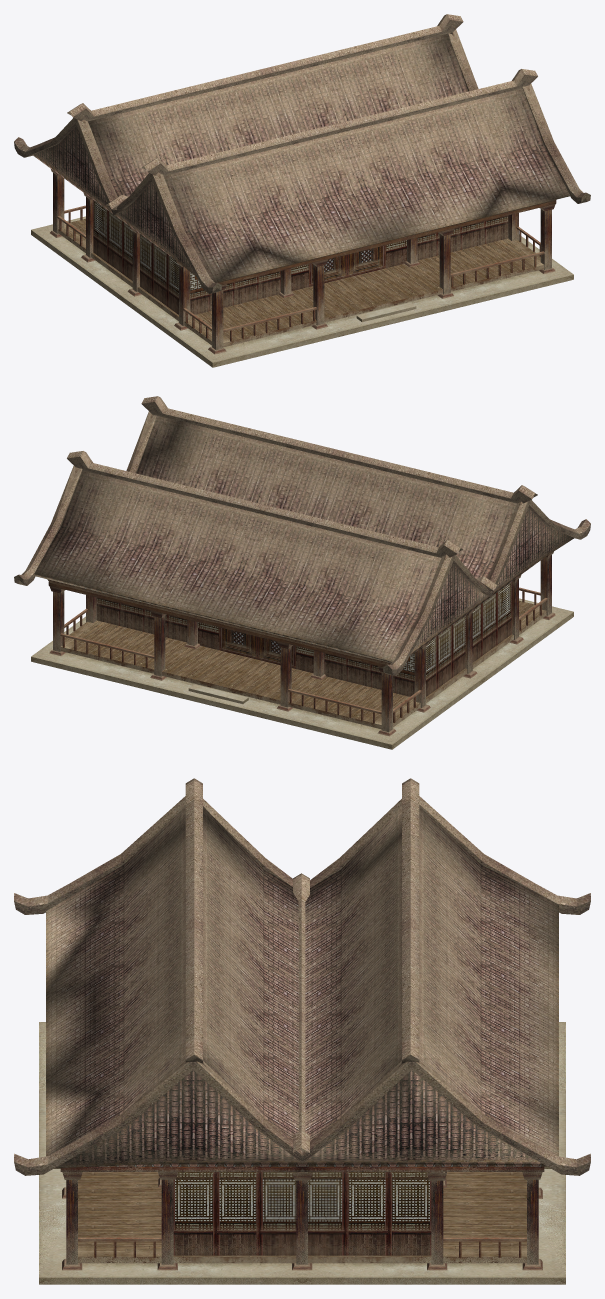
File: desert-033-guesthouse-01.fbx
The picture shows the model from 3 angles, top to bottom: view 1: azimuth 30°, elevation 25°; view 2: azimuth 150°, elevation 25°; view 3: azimuth 270°, elevation 25°; orthographic projection. The views are drawn at different scales.
Parts seen in each view (by area): view 1: desert-033-guesthouse-01, desert-033-guesthouse-02; view 2: desert-033-guesthouse-01, desert-033-guesthouse-02; view 3: desert-033-guesthouse-01, desert-033-guesthouse-02.
Part boxes in pixels (x1=…): desert-033-guesthouse-01: x1=14, y1=14, x2=590, y2=354; desert-033-guesthouse-02: x1=31, y1=173, x2=573, y2=367; desert-033-guesthouse-01: x1=14, y1=396, x2=590, y2=736; desert-033-guesthouse-02: x1=31, y1=555, x2=573, y2=749; desert-033-guesthouse-01: x1=14, y1=778, x2=590, y2=1270; desert-033-guesthouse-02: x1=39, y1=1022, x2=565, y2=1284.
Size of the model in its own units: 20.25 by 8.48 by 17.86.
